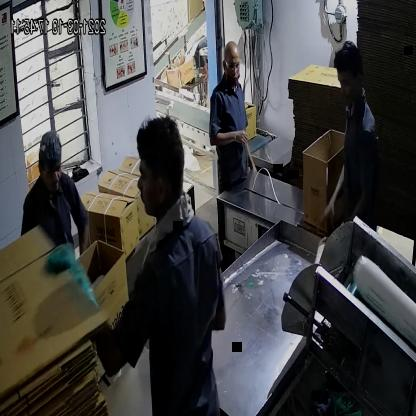no_glove: (206, 121, 256, 154)
